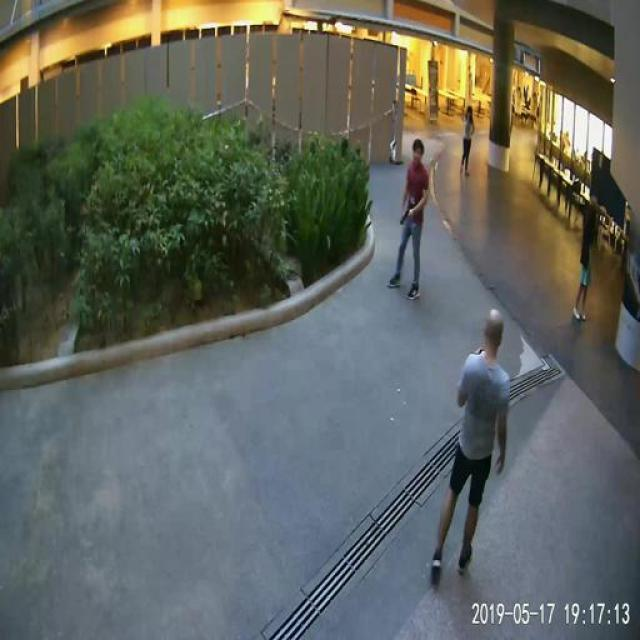Gun: (392, 198, 429, 232)
